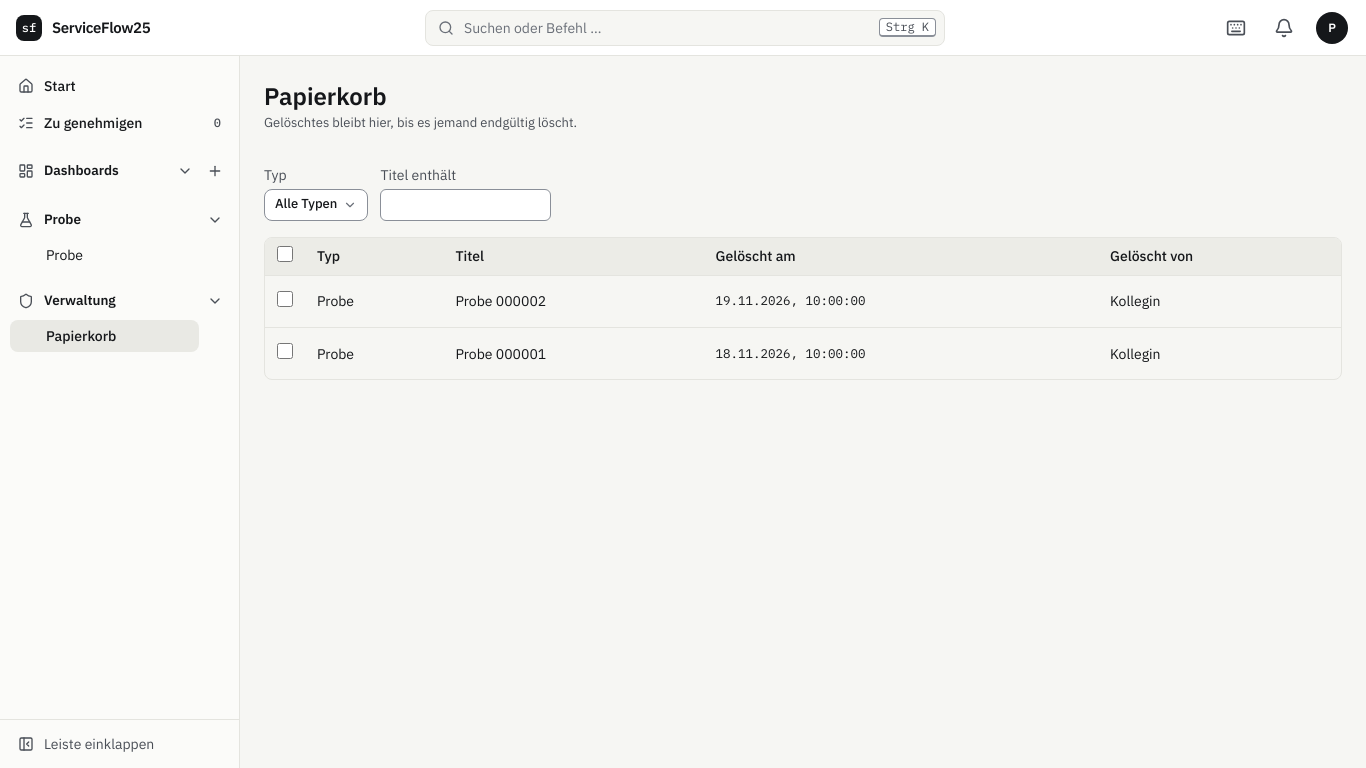
Scenario: TrashPage › offers no purge without the right and says when the trash keeps for ever
Expected: the text "Gelöschtes bleibt hier, bis es jemand endgültig löscht." is shown, [264,114,577,133]
Click the checkbox named "Alle auswählen".
click(285, 254)  # box [277,246,293,262]
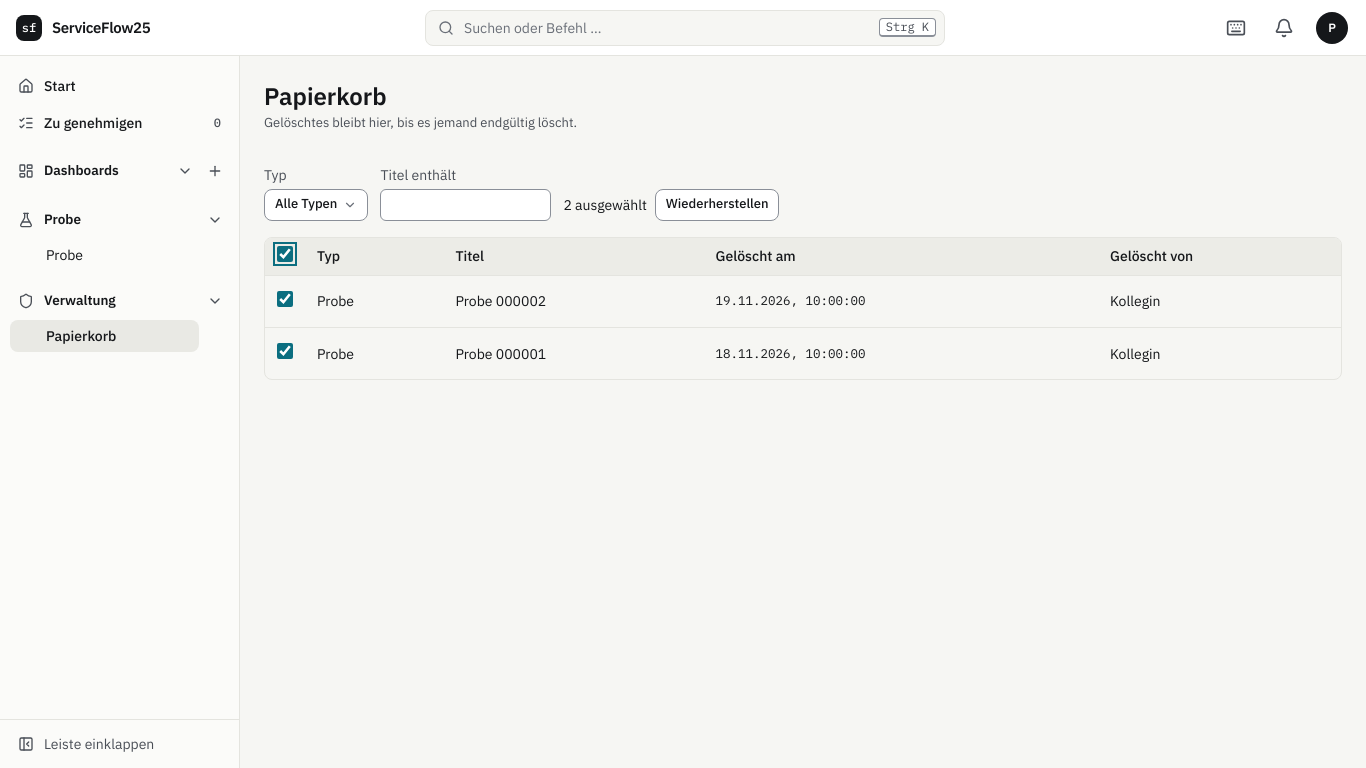
Result: the button "Wiederherstellen" is enabled at [655,189,779,221]
